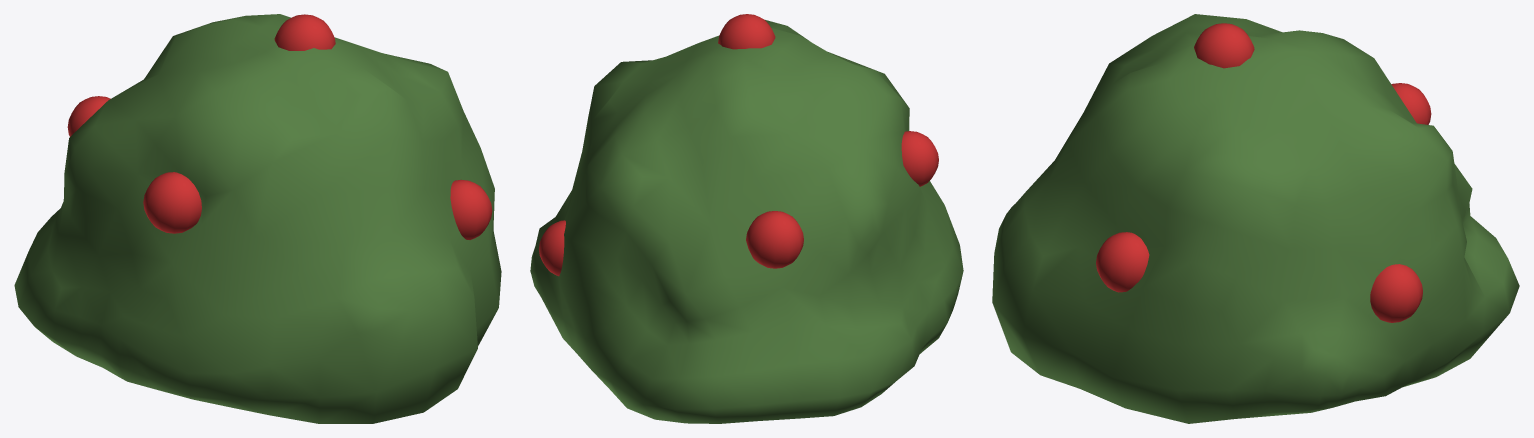
File: mini_buisson.fbx
3 views of the same model, side by side, from view 1: azimuth 30°, elevation 25°; view 2: azimuth 150°, elevation 25°; view 3: azimuth 270°, elevation 25° (orthographic). The views are drawn at different scales.
Visible parts, largest first — view 1: pSphere2, pSphere17, pSphere20, pSphere21, pSphere18; view 2: pSphere2, pSphere18, pSphere21, pSphere17, pSphere19; view 3: pSphere2, pSphere20, pSphere19, pSphere21, pSphere18.
Boxes of the visible parts, x1=… form: pSphere2: x1=14, y1=14, x2=501, y2=423; pSphere17: x1=143, y1=172, x2=201, y2=233; pSphere20: x1=450, y1=179, x2=492, y2=239; pSphere21: x1=274, y1=14, x2=335, y2=50; pSphere18: x1=67, y1=96, x2=110, y2=136; pSphere2: x1=530, y1=20, x2=963, y2=423; pSphere18: x1=746, y1=211, x2=803, y2=268; pSphere21: x1=718, y1=14, x2=775, y2=49; pSphere17: x1=901, y1=131, x2=938, y2=186; pSphere19: x1=539, y1=220, x2=565, y2=276; pSphere2: x1=992, y1=14, x2=1519, y2=423; pSphere20: x1=1096, y1=232, x2=1149, y2=292; pSphere19: x1=1370, y1=264, x2=1422, y2=322; pSphere21: x1=1194, y1=23, x2=1254, y2=68; pSphere18: x1=1391, y1=83, x2=1431, y2=124.
Size of the model in its own units: 0.9948 by 0.7929 by 1.14.
